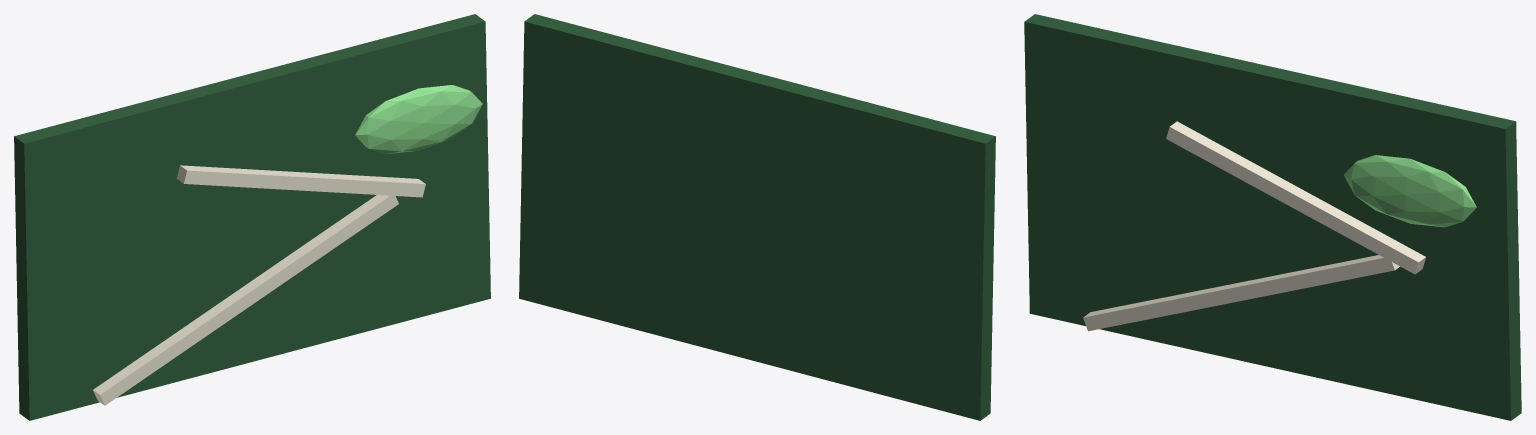
The model's file is 06_weathering_wear_overlay_6.glb.
The picture shows the model from 3 angles, left to right: view 1: azimuth 30°, elevation 25°; view 2: azimuth 150°, elevation 25°; view 3: azimuth 330°, elevation 25°; orthographic projection. The views are drawn at different scales.
Parts seen in each view (by area): view 1: wear_plate, scratch_a, rust_or_moss_spot, scratch_b; view 2: wear_plate; view 3: wear_plate, rust_or_moss_spot, scratch_b, scratch_a.
Part boxes in pixels (x1,y1,x2,y2): wear_plate: (14,14,490,420); scratch_a: (93,195,398,405); rust_or_moss_spot: (355,85,482,154); scratch_b: (176,165,425,197); wear_plate: (519,14,995,420); wear_plate: (1024,14,1521,420); rust_or_moss_spot: (1344,155,1476,227); scratch_b: (1166,121,1425,274); scratch_a: (1083,255,1399,331).
Bounding box in the file's own units: 1.31 × 0.776 × 0.134.
